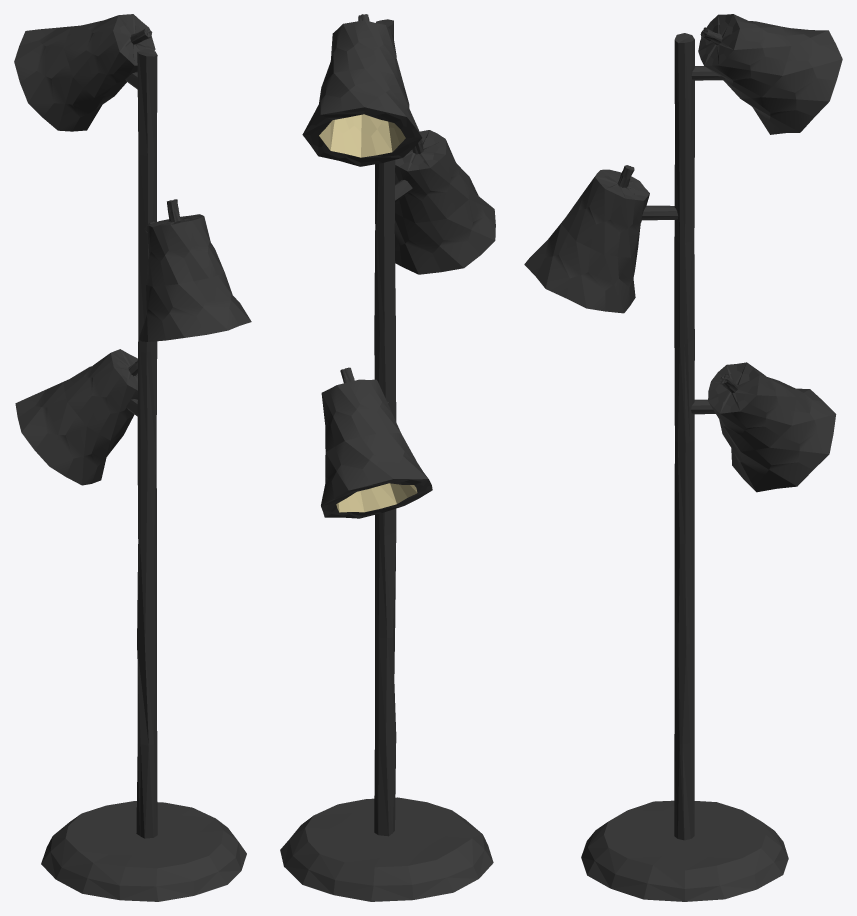
The model's file is livingroom_tall_lamp.fbx.
3 renders of one model, left to right at view 1: azimuth 30°, elevation 25°; view 2: azimuth 150°, elevation 25°; view 3: azimuth 270°, elevation 25°, orthographic. The views are drawn at different scales.
Parts seen in each view (by area): view 1: livingroom_lamp; view 2: livingroom_lamp; view 3: livingroom_lamp.
Boxes of the visible parts, x1,y1,x2,y2 form: livingroom_lamp: (14, 14, 251, 901); livingroom_lamp: (280, 14, 495, 901); livingroom_lamp: (524, 14, 842, 901).
Bounding box in the file's own units: 37.29 × 167 × 57.14.
